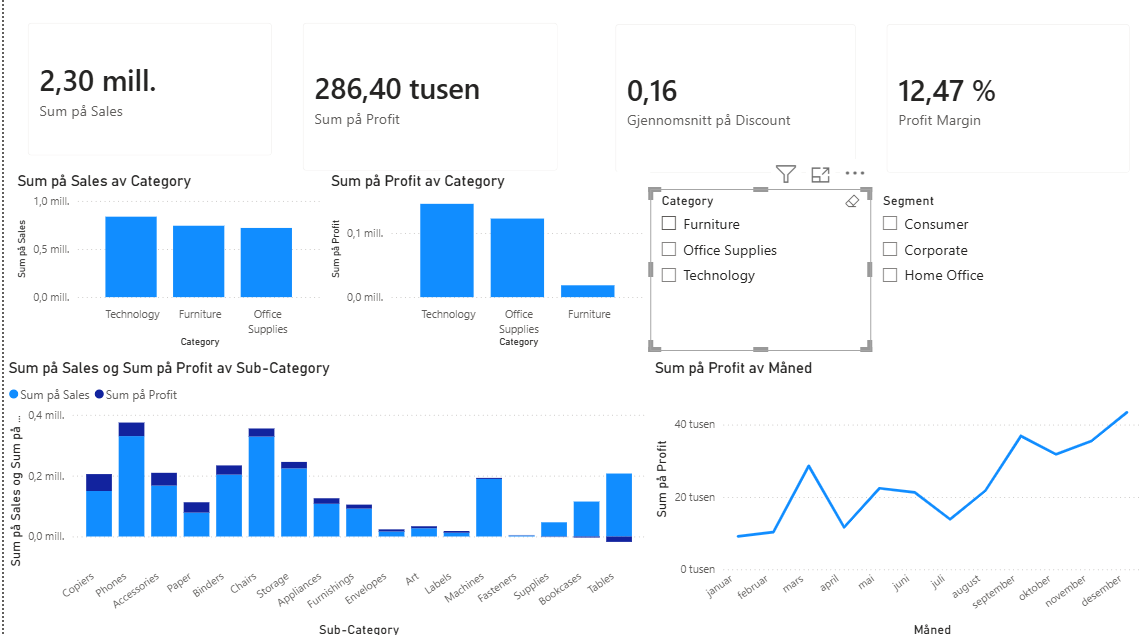

The page's visual inventory and layout, read from the dashboard file:
{"tool":"powerbi","page":{"name":"Side 1","canvas":[1280,720],"ordinal":0},"visuals":[{"type":"cardVisual","fields":{"Data":["Sum(Orders.Sales)"]},"box":[9.6,9.6,308.7,183.9],"z":0},{"type":"cardVisual","fields":{"Data":["Sum(Orders.Profit)"]},"box":[318.8,10.4,320.8,200],"z":1000},{"type":"cardVisual","fields":{"Data":["Avg(Orders.Discount)"]},"box":[668.3,11,304.6,201.7],"z":2000},{"type":"clusteredColumnChart","fields":{"Category":["Orders.Category"],"Y":["Sum(Orders.Sales)"]},"box":[9.8,193.5,352,201.9],"z":3000},{"type":"columnChart","fields":{"Category":["Orders.Category"],"Y":["Sum(Orders.Profit)"]},"box":[361.8,193.5,363.2,201.9],"z":4000},{"type":"columnChart","fields":{"Category":["Orders.Sub-Category"],"Y":["Sum(Orders.Sales)","Sum(Orders.Profit)"]},"box":[0,403.4,724.5,317],"z":5000},{"type":"cardVisual","fields":{"Data":["Orders.Profit Margin"]},"box":[972.9,11,307.4,201.7],"z":6000},{"type":"lineChart","fields":{"Category":["Orders.Order Date.Variasjon.Datohierarki.År","Orders.Order Date.Variasjon.Datohierarki.Kvartal","Orders.Order Date.Variasjon.Datohierarki.Måned","Orders.Order Date.Variasjon.Datohierarki.Dag"],"Y":["Sum(Orders.Profit)"]},"box":[724.5,403.4,555.7,317],"z":7000},{"type":"slicer","fields":{"Values":["Orders.Category"]},"box":[725,213,248,183],"z":7001},{"type":"slicer","fields":{"Values":["Orders.Segment"]},"box":[973,213,307,183],"z":7002}]}

Visuals, with their boxes in screenshot pixels (x1, y1, x2, y2), scaled from the page's 1280x720 canvas onto the 1142x635 screenshot:
cardVisual - Sum(Orders.Sales): [9,8,284,171]
cardVisual - Sum(Orders.Profit): [284,9,571,186]
cardVisual - Avg(Orders.Discount): [596,10,868,188]
clusteredColumnChart - Orders.Category x Sum(Orders.Sales): [9,171,323,349]
columnChart - Orders.Category x Sum(Orders.Profit): [323,171,647,349]
columnChart - Orders.Sub-Category x Sum(Orders.Sales): [0,356,646,634]
cardVisual - Orders.Profit Margin: [868,10,1141,188]
lineChart - Orders.Order Date.Variasjon.Datohierarki.År x Orders.Order Date.Variasjon.Datohierarki.Kvartal: [646,356,1141,634]
slicer - Orders.Category: [647,188,868,349]
slicer - Orders.Segment: [868,188,1141,349]
